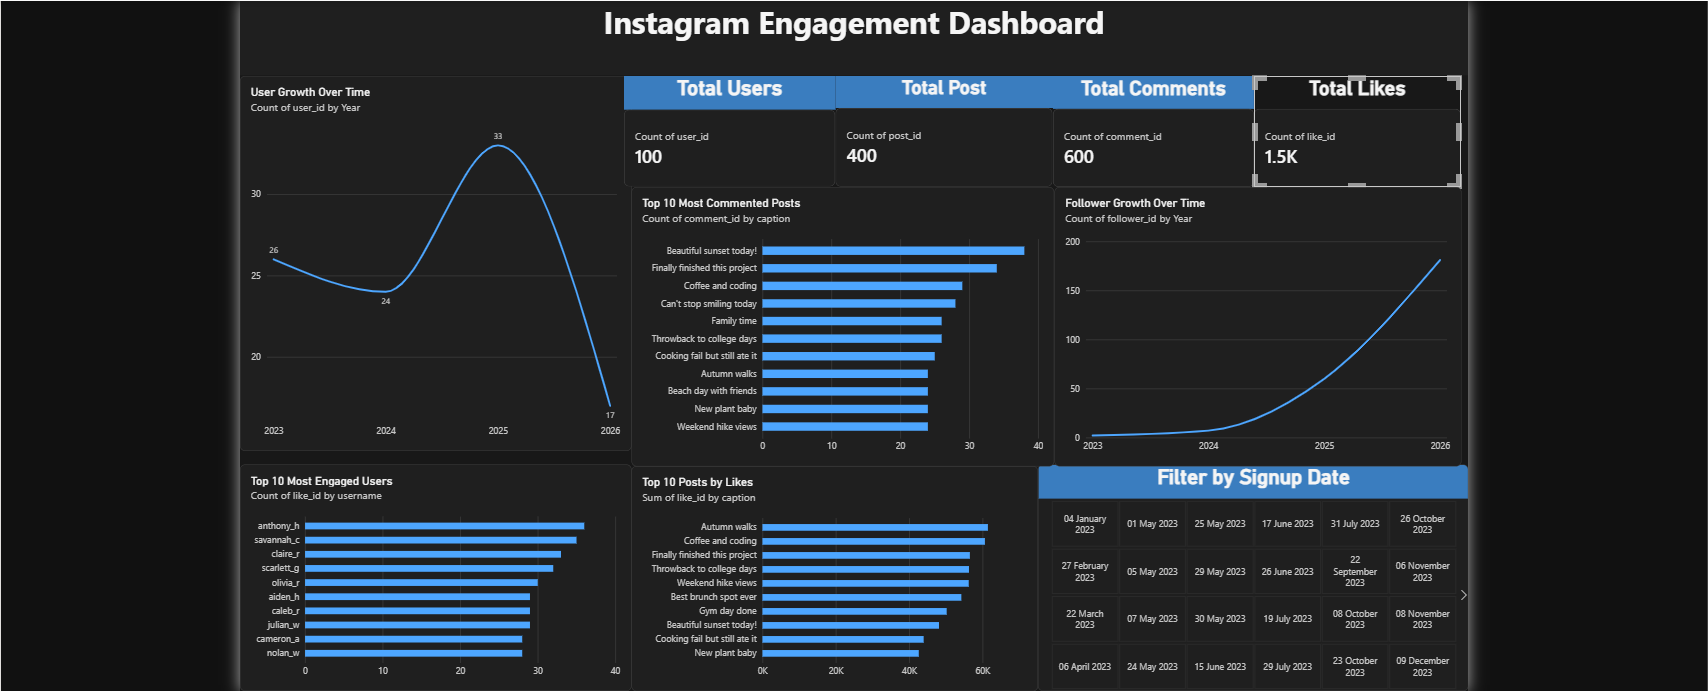

The dashboard page shown, as its layout file describes it:
{"tool":"powerbi","page":{"name":"Page 1","canvas":[1920,1080],"ordinal":0},"visuals":[{"type":"lineChart","title":"User Growth Over Time","fields":{"Category":["Users.signup_date.Variation.Date Hierarchy.Year","Users.signup_date.Variation.Date Hierarchy.Quarter","Users.signup_date.Variation.Date Hierarchy.Month","Users.signup_date.Variation.Date Hierarchy.Day"],"Y":["CountNonNull(Users.user_id)"]},"box":[0,117.2,611.9,586.1],"z":0},{"type":"cardVisual","title":"Total Comments","fields":{"Data":["CountNonNull(Comments.comment_id)"]},"box":[1270.7,117.2,314.2,173.5],"z":1000},{"type":"cardVisual","title":"Total Users","fields":{"Data":["CountNonNull(Users.user_id)"]},"box":[600.2,117.2,330.6,173.5],"z":2000},{"type":"cardVisual","title":"Total Post","fields":{"Data":["CountNonNull(posts.post_id)"]},"box":[930.8,117.2,339.9,173.5],"z":3000},{"type":"cardVisual","title":"Total Likes","fields":{"Data":["CountNonNull(Likes.like_id)"]},"box":[1584.9,117.2,323.5,173.5],"z":4000},{"type":"clusteredBarChart","title":"Top 10 Most Engaged Users","fields":{"Category":["Users.username"],"Y":["CountNonNull(Likes.like_id)"]},"box":[0,724.4,611.9,354],"z":5000},{"type":"clusteredBarChart","title":"Top 10 Posts by Likes","fields":{"Category":["posts.caption"],"Y":["Sum(Likes.like_id)"]},"box":[611.9,726.8,635.4,351.7],"z":6000},{"type":"slicer","title":"Filter by Signup Date","fields":{"Values":["Users.signup_date"]},"box":[1247.3,724.4,672.9,354],"z":7000},{"type":"textbox","box":[0,0,1919.1,116.1],"z":8000},{"type":"clusteredBarChart","title":"Top 10 Most Commented Posts","fields":{"Category":["posts.caption"],"Y":["CountNonNull(Comments.comment_id)"]},"box":[611.1,290.4,660.9,436.9],"z":9000},{"type":"lineChart","title":"Follower Growth Over Time","fields":{"Category":["Followers.follow_date.Variation.Date Hierarchy.Year","Followers.follow_date.Variation.Date Hierarchy.Quarter","Followers.follow_date.Variation.Date Hierarchy.Month","Followers.follow_date.Variation.Date Hierarchy.Day"],"Y":["CountNonNull(Followers.follower_id)"]},"box":[1272,290.4,636,436.9],"z":10000}]}

Visuals, with their boxes on the page's 1920x1080 design canvas (x1, y1, x2, y2). These are canvas units, not pixel positions in the 1708x691 screenshot, which may show the page scaled, cropped or inside an application window:
"User Growth Over Time" lineChart: <box>0,117,612,703</box>
"Total Comments" cardVisual: <box>1271,117,1585,291</box>
"Total Users" cardVisual: <box>600,117,931,291</box>
"Total Post" cardVisual: <box>931,117,1271,291</box>
"Total Likes" cardVisual: <box>1585,117,1908,291</box>
"Top 10 Most Engaged Users" clusteredBarChart: <box>0,724,612,1078</box>
"Top 10 Posts by Likes" clusteredBarChart: <box>612,727,1247,1078</box>
"Filter by Signup Date" slicer: <box>1247,724,1920,1078</box>
textbox: <box>0,0,1919,116</box>
"Top 10 Most Commented Posts" clusteredBarChart: <box>611,290,1272,727</box>
"Follower Growth Over Time" lineChart: <box>1272,290,1908,727</box>
